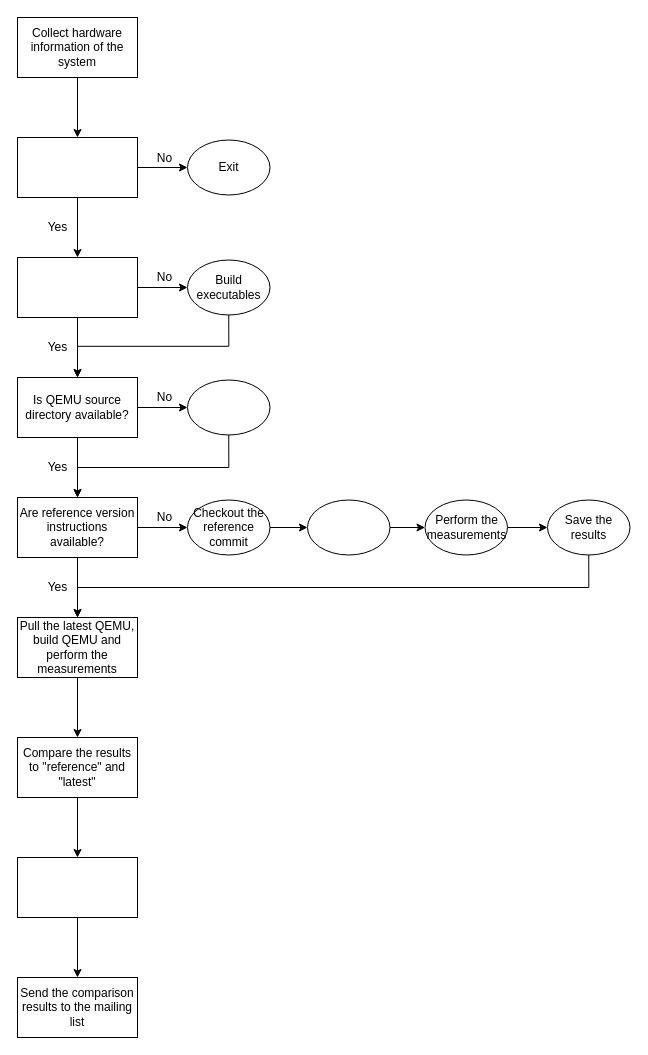
Some shapes in this 648 by 1055 pixel diagram are drawn without their labels. The shapes that lost their labels are listed below. From the top down, each one's centre as x and y in pixels, then its label:
the point at 77,167: Are all requirements installed?
the point at 77,287: Are all 17x8 executables built?
the point at 228,407: Clone from Git
the point at 348,527: Build QEMU
the point at 77,887: Save the new instructions to "latest" and the comparison results to "history"
